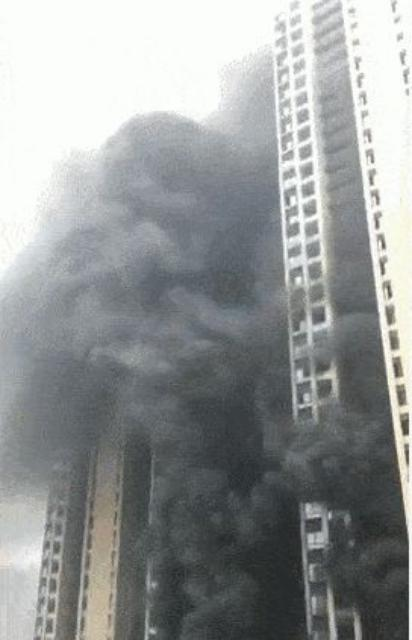smoke: (10, 57, 283, 445), (140, 455, 294, 635), (328, 497, 409, 619), (293, 418, 394, 496)
